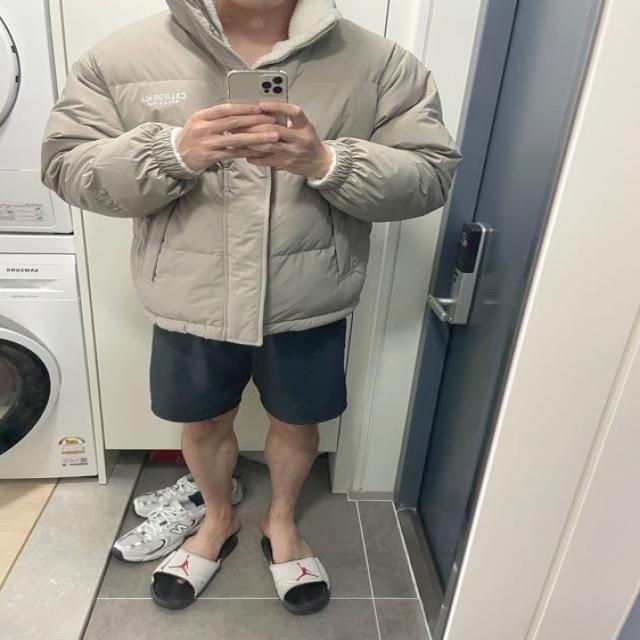padding: (37, 0, 461, 347)
shortpants: (150, 308, 354, 426)
